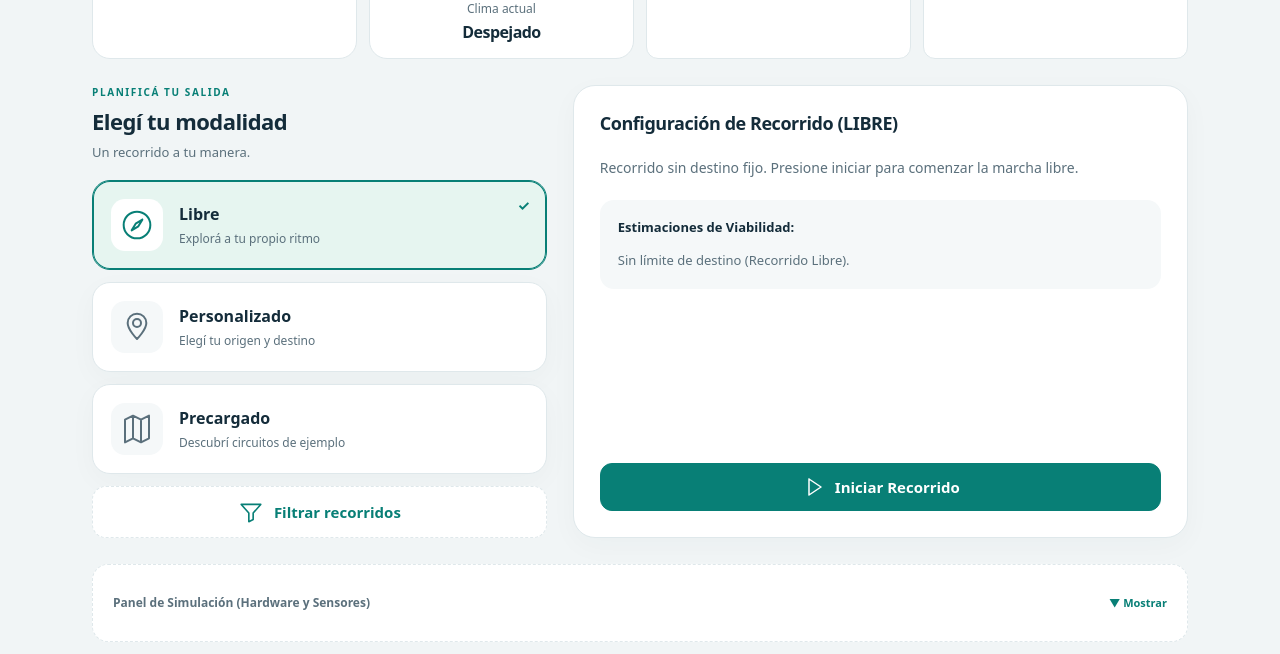
TC-04/08/25: el panel QA puede forzar LLUVIA normal/elevado
(page scrolled)
Click the text "Panel de Simulación (Hardware y Sensores)" at {"x": 242, "y": 603}, box [113,594,370,612]
(page scrolled)
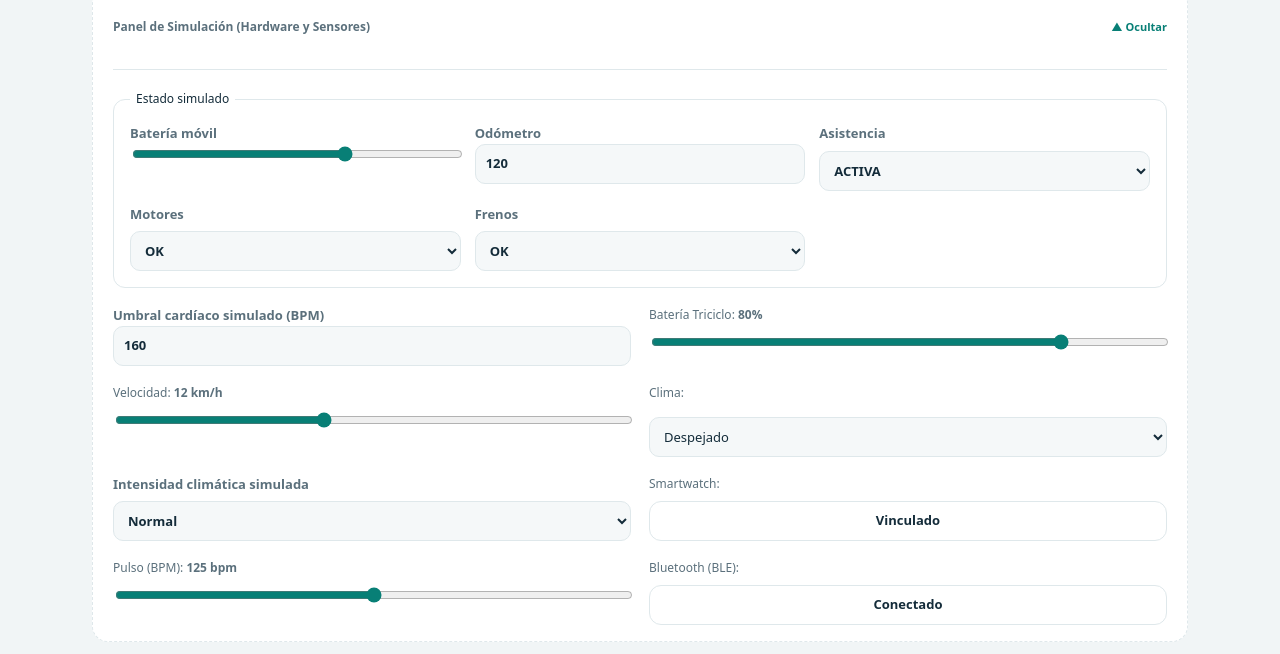
Select "Lluvia" in the dropdown named "Clima simulado" at {"x": 908, "y": 437}, box [649,417,1167,457]
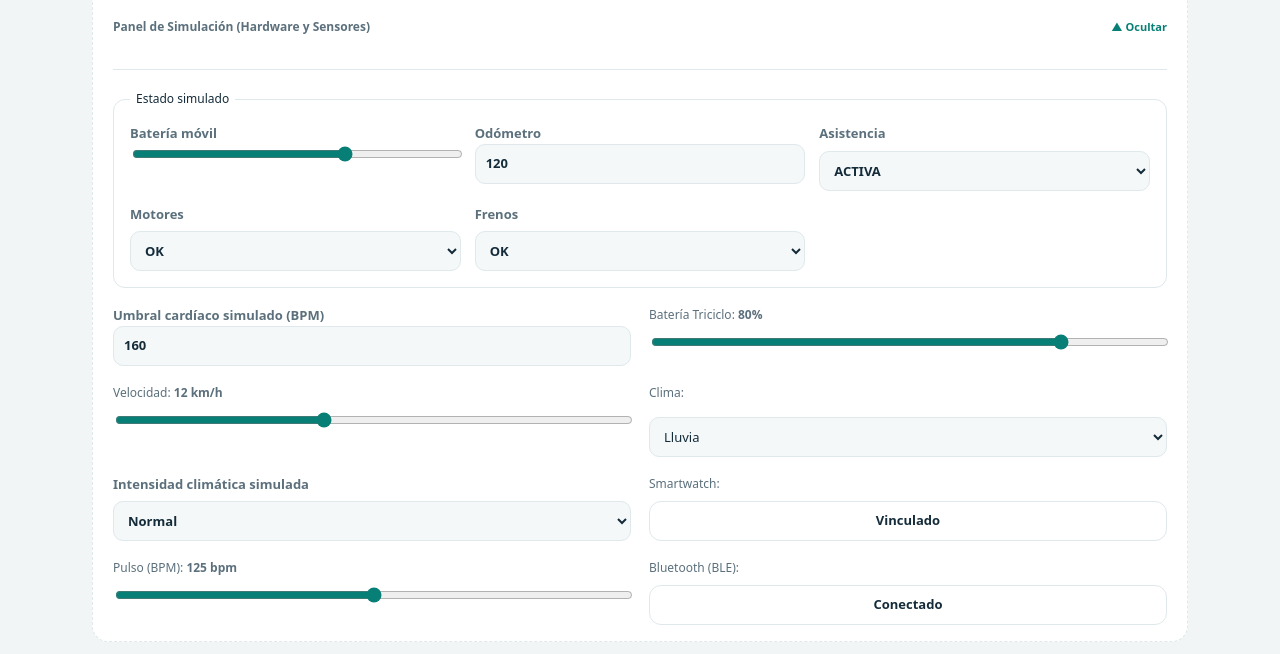
Select "Elevada" in the dropdown labelled "Intensidad climática simulada" at {"x": 372, "y": 521}, box [113,501,631,541]
(page scrolled)
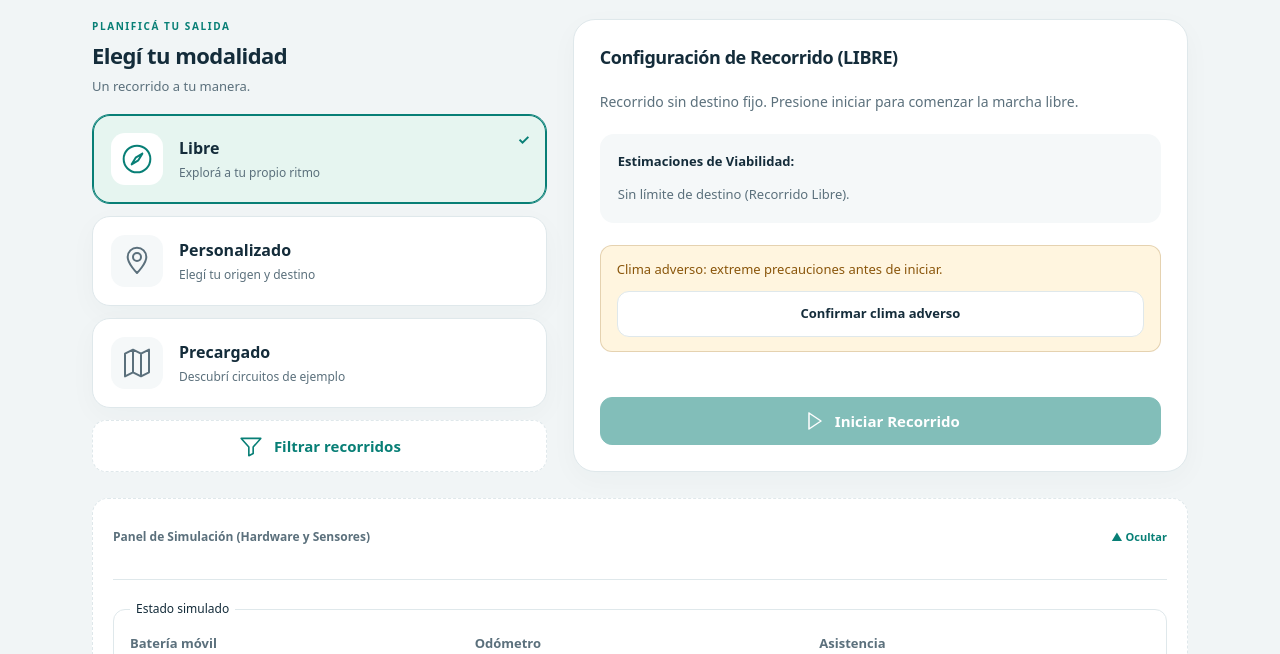
Expected: the button "Iniciar Recorrido" is disabled, [600,397,1161,445]
Click the button "Confirmar clima adverso" at {"x": 880, "y": 314}, box [617,291,1144,337]
(page scrolled)
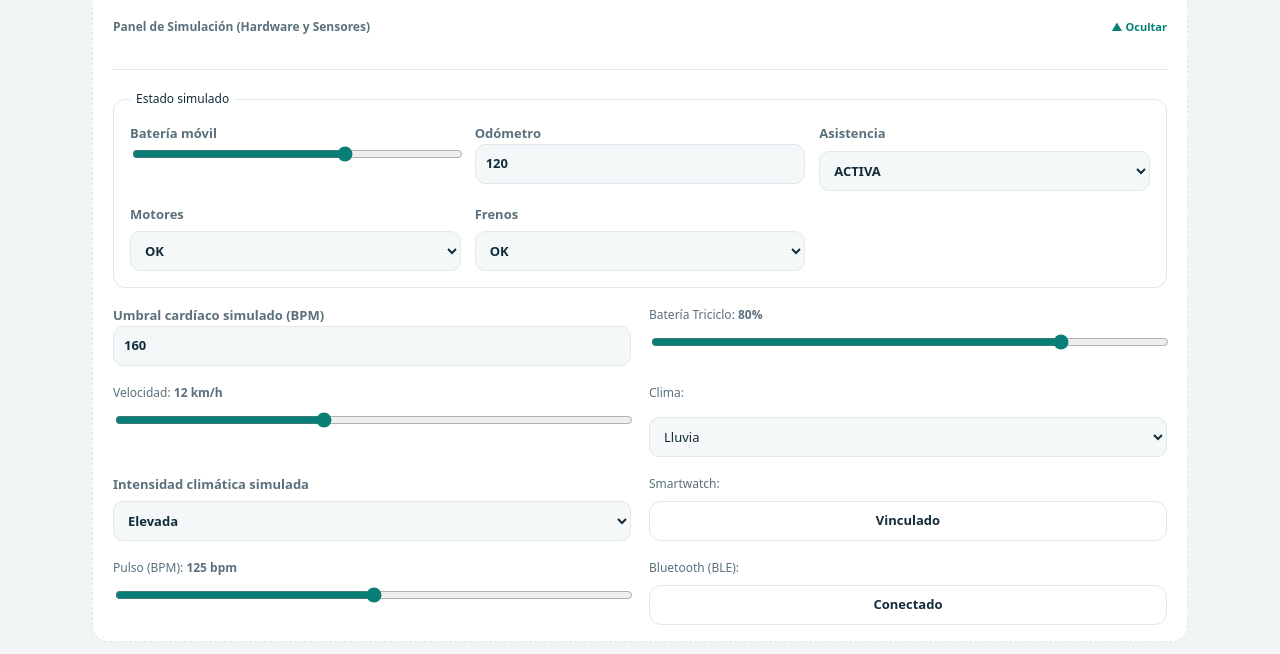
Select "Normal" in the dropdown labelled "Intensidad climática simulada" at {"x": 372, "y": 521}, box [113,501,631,541]
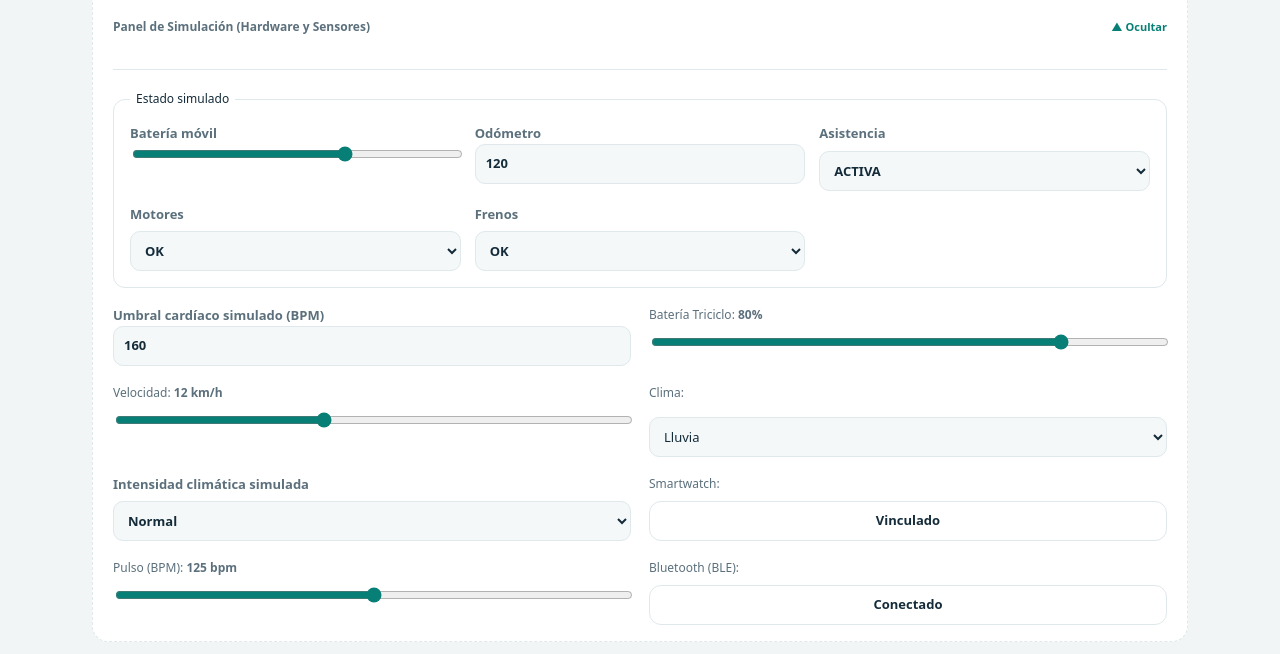
Select "Elevada" in the dropdown labelled "Intensidad climática simulada" at {"x": 372, "y": 521}, box [113,501,631,541]
(page scrolled)
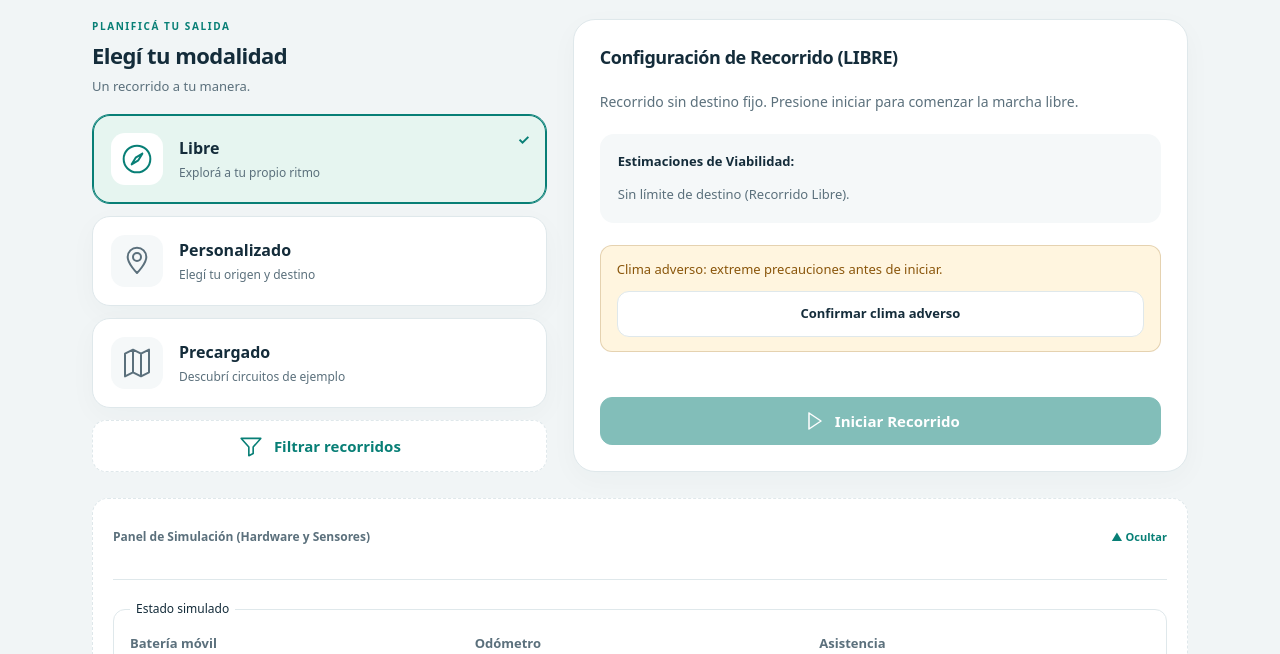
Expected: the button "Confirmar clima adverso" is shown, [617,291,1144,337]
